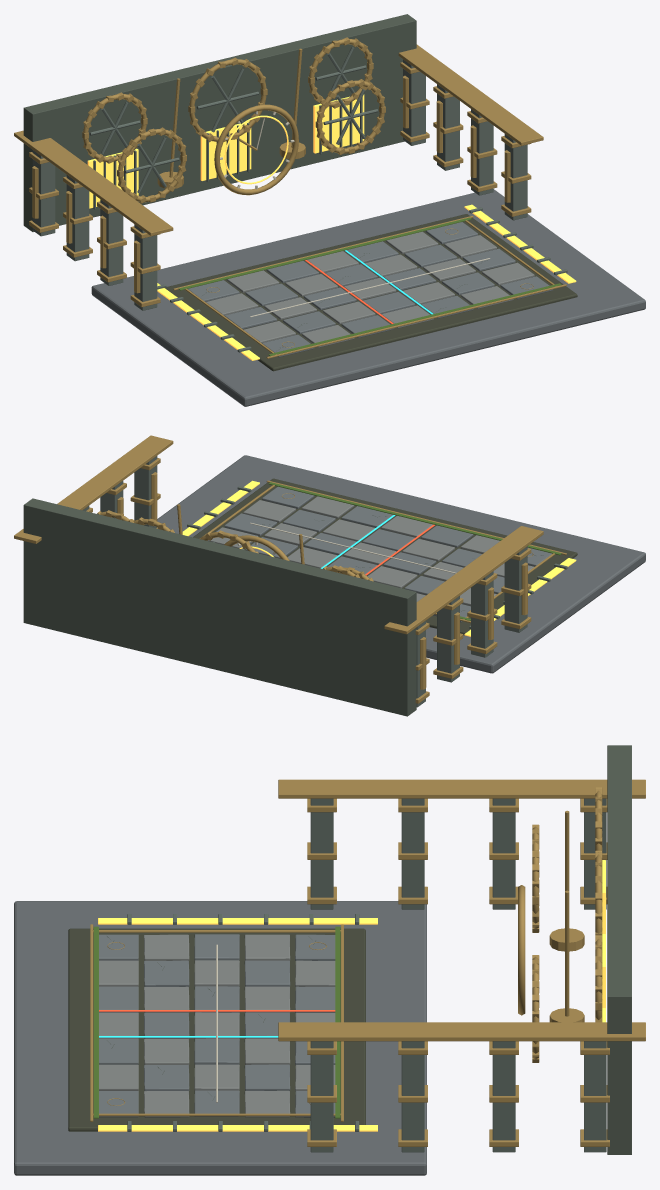
Rendered from timekeeper_engine.glb.
The picture shows the model from 3 angles, top to bottom: view 1: azimuth 30°, elevation 25°; view 2: azimuth 150°, elevation 25°; view 3: azimuth 270°, elevation 25°; orthographic projection. The views are drawn at different scales.
Visible parts, largest first — view 1: Architecture, BattleMeadow, ArenaTiles, ArenaBase, Energy, Props, ArenaBorders, ArenaLaneLines; view 2: Architecture, BattleMeadow, ArenaTiles, ArenaBase, Props, ArenaBorders, Energy, ArenaLaneLines; view 3: Architecture, BattleMeadow, ArenaTiles, ArenaBase, ArenaBorders, Energy, Props, ArenaLaneLines.
Boxes of the visible parts, x1,y1,x2,y2 form: Architecture: (14,14,543,310); BattleMeadow: (91,189,645,406); ArenaTiles: (188,222,553,357); ArenaBase: (165,214,577,371); Energy: (87,94,576,360); Props: (32,48,567,352); ArenaBorders: (173,215,566,358); ArenaLaneLines: (250,250,490,323); Architecture: (14,435,543,716); BattleMeadow: (157,455,645,673); ArenaTiles: (207,486,552,622); ArenaBase: (193,478,577,635); Props: (117,472,567,689); ArenaBorders: (201,480,566,623); Energy: (182,480,576,636); ArenaLaneLines: (250,515,456,575); Architecture: (278,745,645,1154); BattleMeadow: (14,901,426,1175); ArenaTiles: (99,934,335,1117); ArenaBase: (68,928,365,1131); ArenaBorders: (90,924,343,1121); Energy: (98,860,605,1131); Props: (127,810,584,1131); ArenaLaneLines: (99,944,335,1102).
Size of what is drawn, in the model's own units: 17.8 by 6.1 by 18.05.
